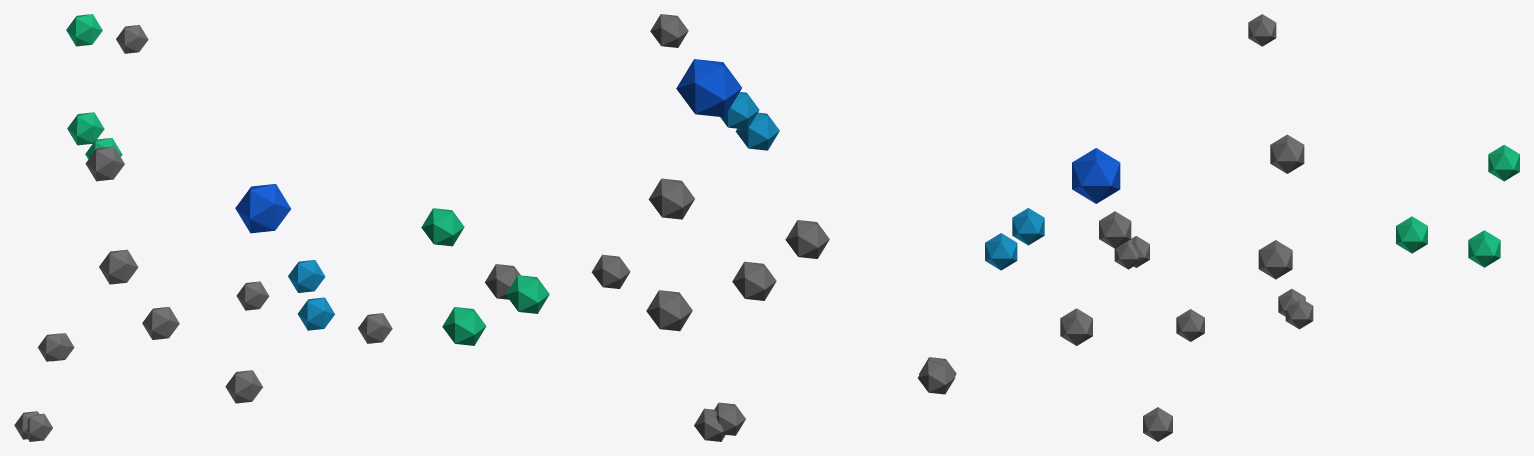
3 views of the same model, side by side, from view 1: azimuth 30°, elevation 25°; view 2: azimuth 150°, elevation 25°; view 3: azimuth 270°, elevation 25° (orthographic). The views are drawn at different scales.
Visible parts, largest first — view 1: 07_04_04; view 2: 07_04_04; view 3: 07_04_04.
Boxes of the visible parts, x1,y1,x2,y2 form: 07_04_04: (14, 14, 392, 441); 07_04_04: (421, 14, 956, 441); 07_04_04: (985, 14, 1519, 441).
Size of the model in its own units: 0.4819 by 0.403 by 0.5826.
